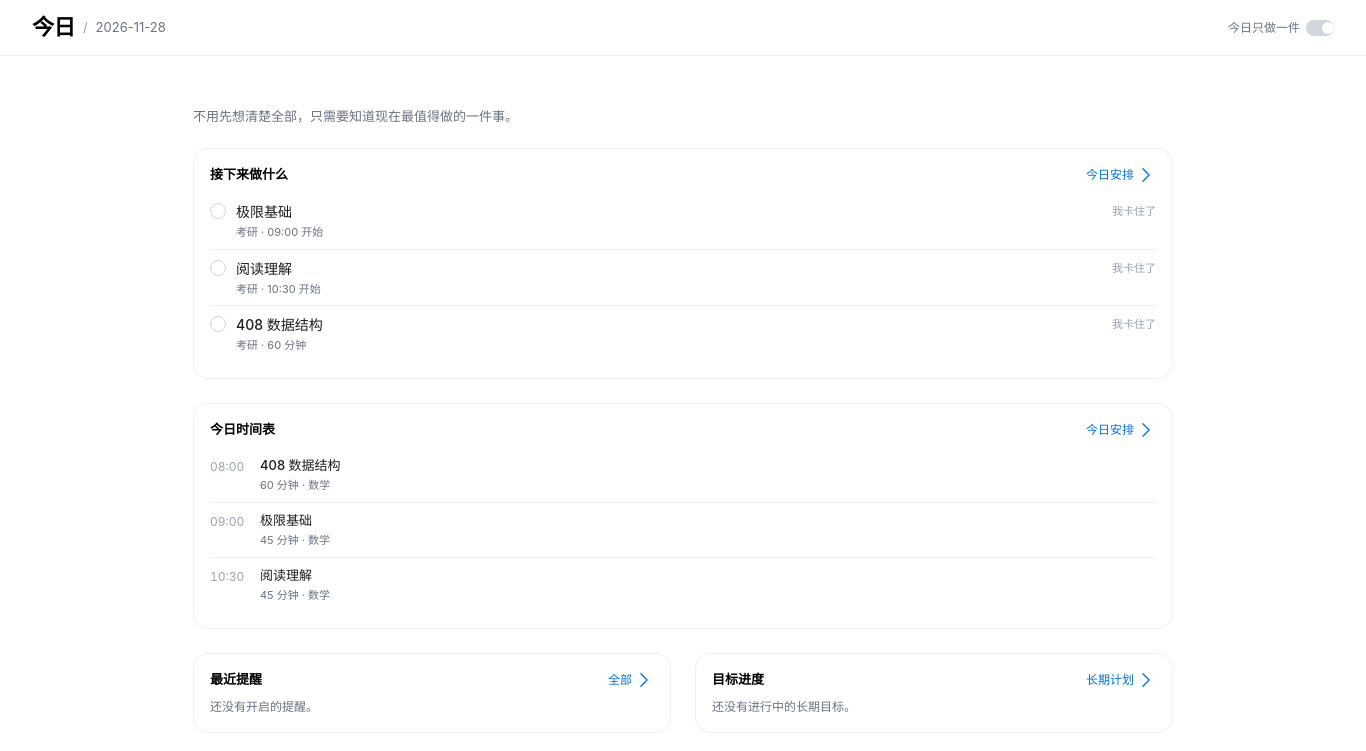
it: 今日只做一件 › on + chosen: only the chosen task shows, the rest fold behind 还有 2 件（展开）
Click the switch labelled "今日只做一件". click: (1281,28)
box: [1228, 18, 1334, 36]
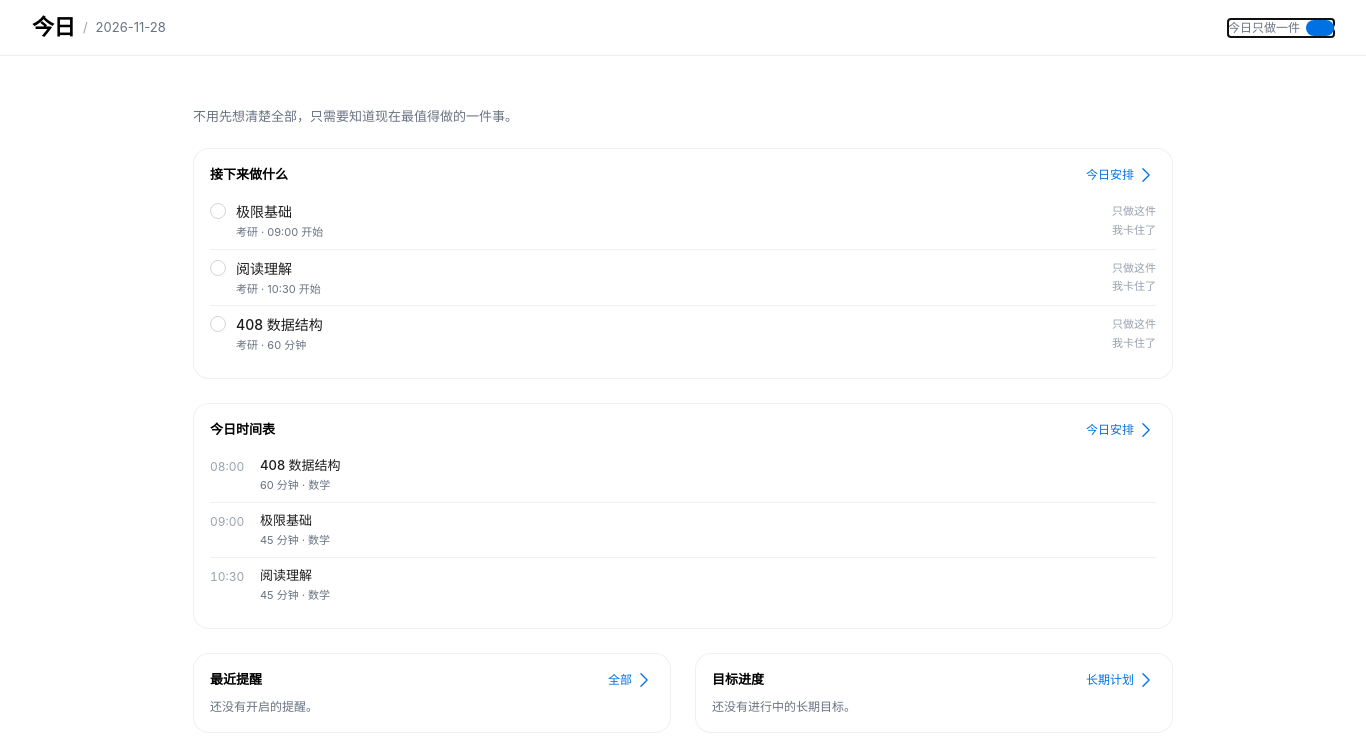
Expected: the number of checkboxes is 3, [210, 203, 226, 219]; [210, 260, 226, 276]; [210, 316, 226, 332]
Expected: the text "今天只做这一件" is not shown
Click the button with aria-label "只做这件：阅读理解". click: (1134,268)
box: [1112, 260, 1156, 276]
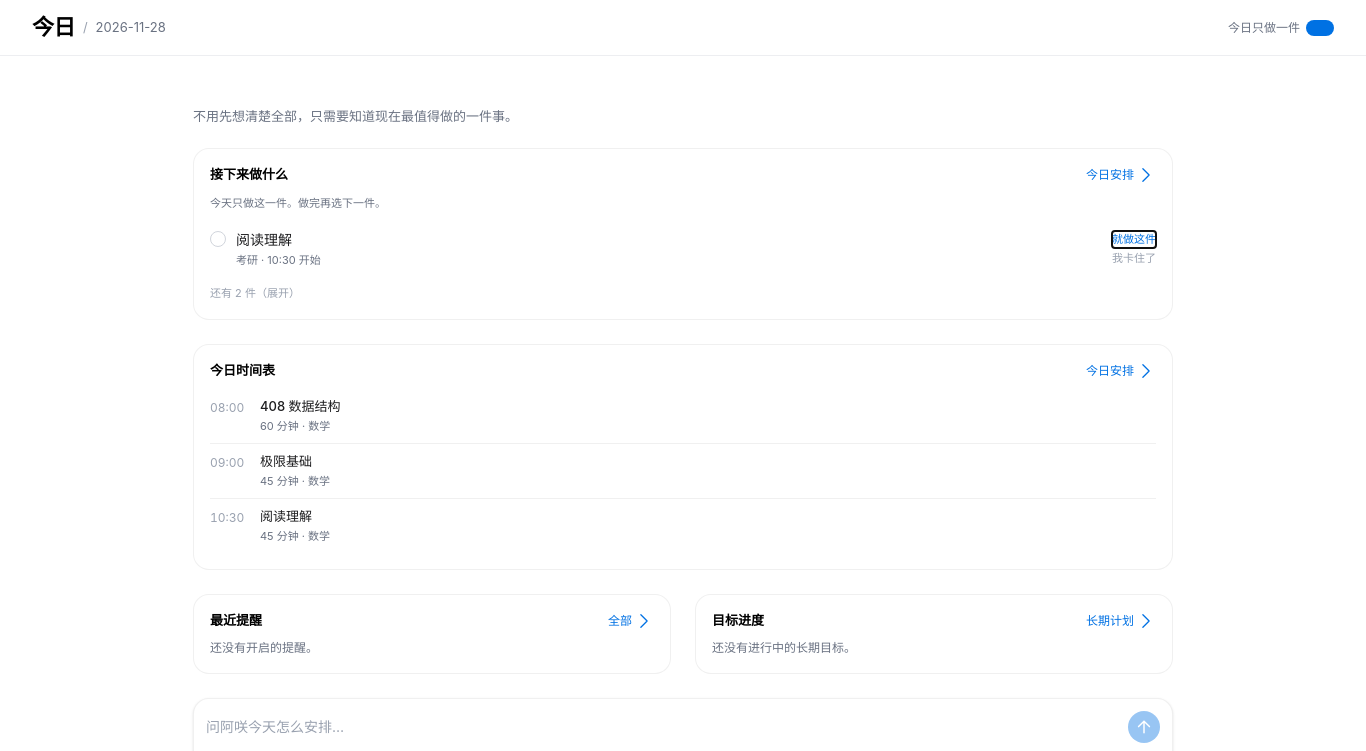
Expected: the button "阅读理解" is shown, [236, 229, 292, 250]
Expected: the text "今天只做这一件。做完再选下一件。" is shown, [210, 196, 386, 210]
Expected: the number of checkboxes is 1, [210, 231, 226, 247]
Click the button "还有 2 件（展开）". click: (255,293)
box: [210, 284, 300, 301]
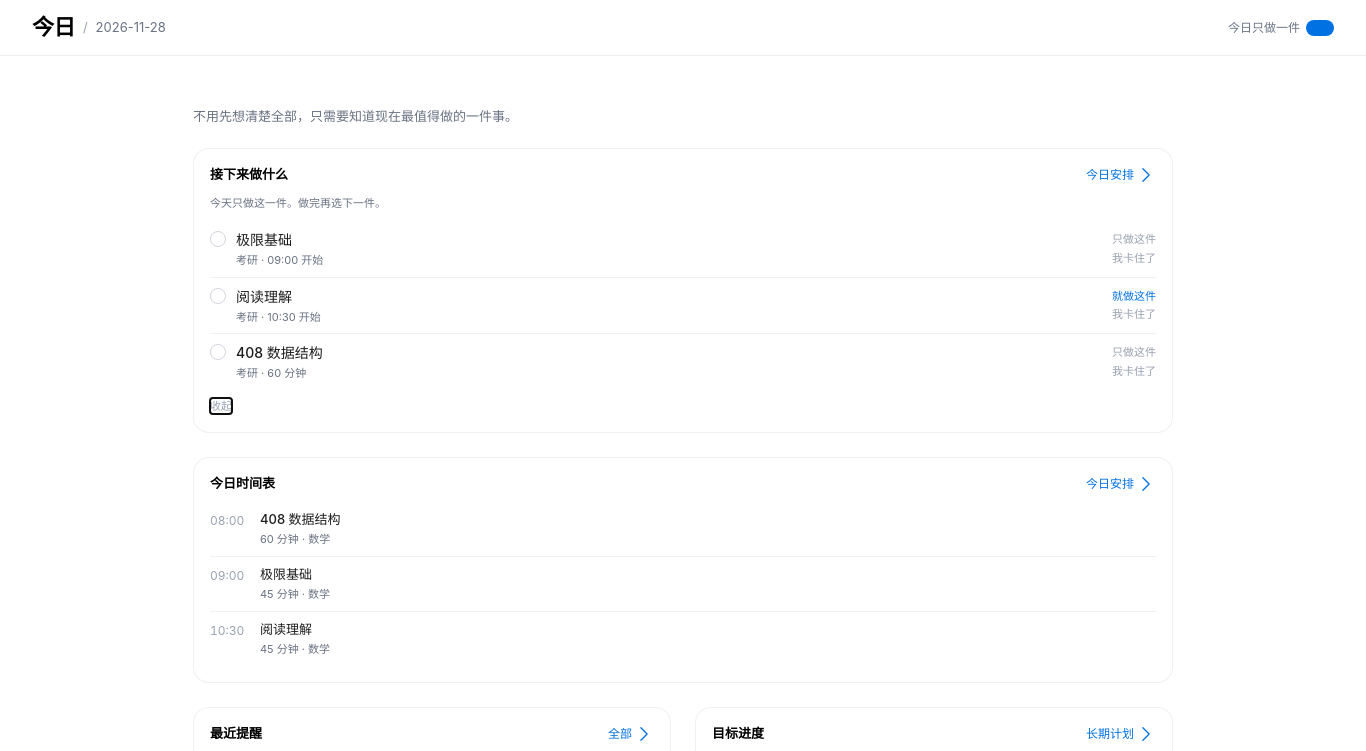
Expected: the number of checkboxes is 3, [210, 231, 226, 247]; [210, 288, 226, 304]; [210, 344, 226, 360]
Expected: the button "极限基础" is shown, [236, 229, 292, 250]
Expected: the button "408 数据结构" is shown, [236, 342, 323, 363]
Click the button named "还有 2 件（展开）". click: (221,406)
box: [210, 398, 232, 414]
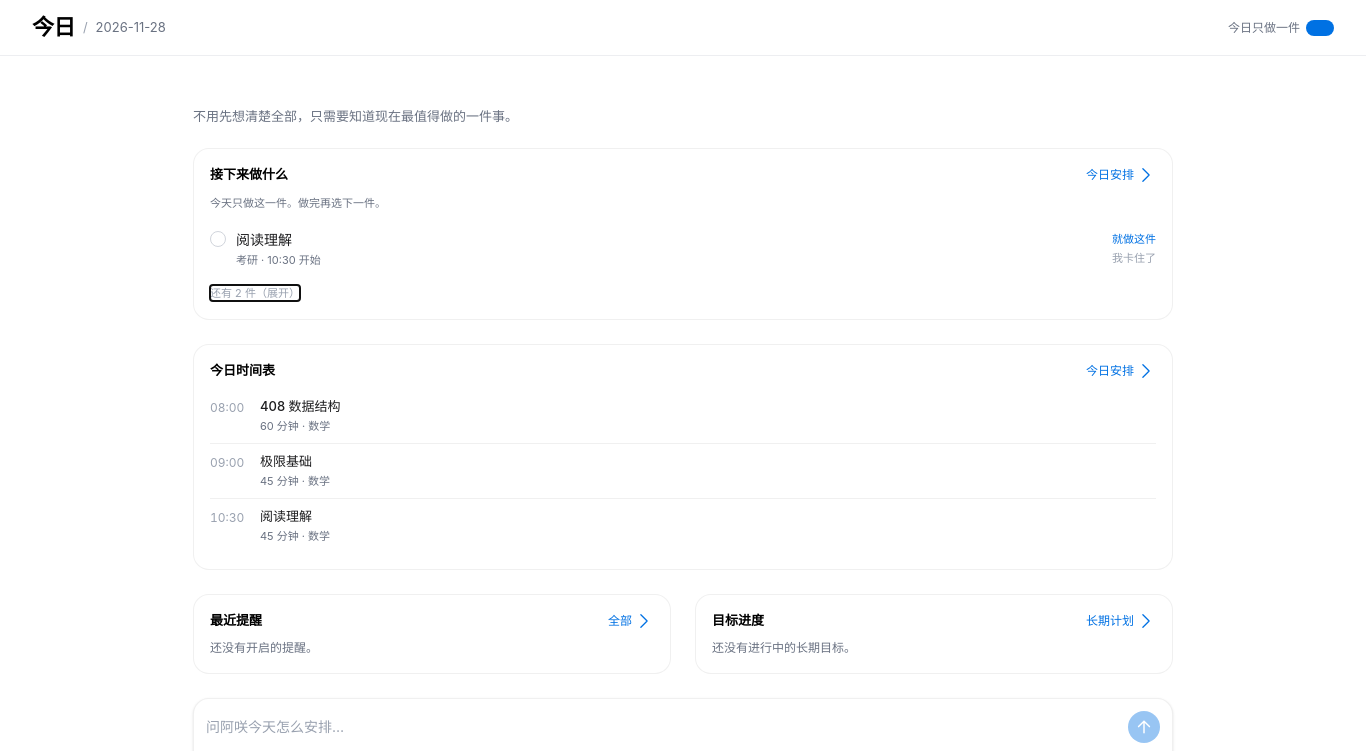
Expected: the number of checkboxes is 1, [210, 231, 226, 247]
Expected: the button "还有 2 件（展开）" is shown, [210, 284, 300, 301]
